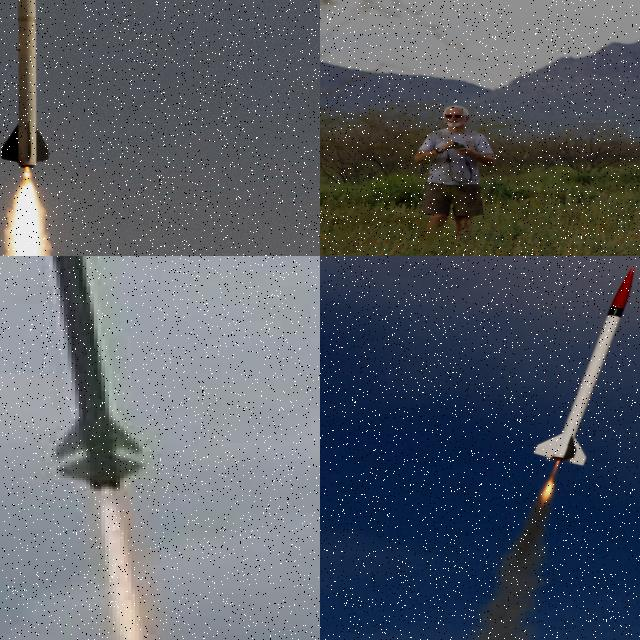Rocket: (11, 256, 154, 493), (534, 264, 636, 466), (0, 0, 51, 171)
